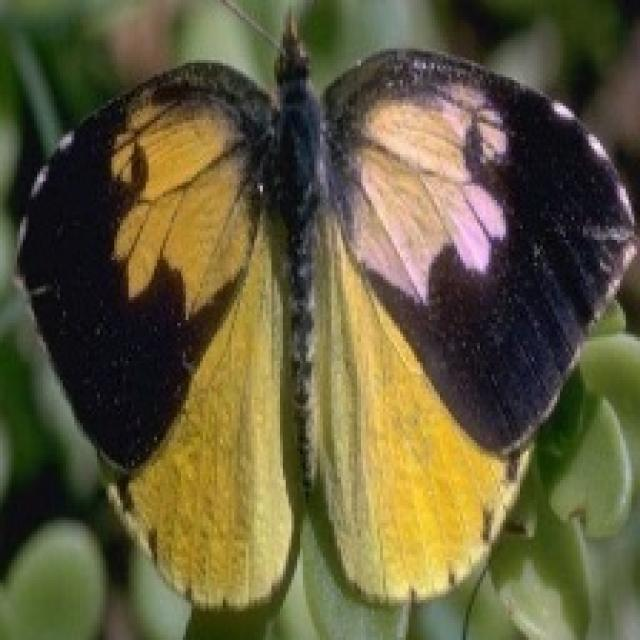butterfly: (11, 0, 637, 614)
